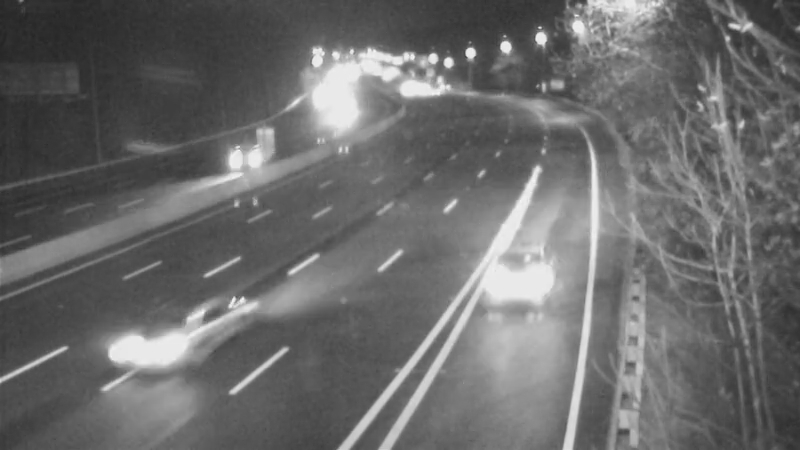vehicle: (96, 287, 206, 397), (480, 235, 560, 315), (201, 124, 281, 204)
